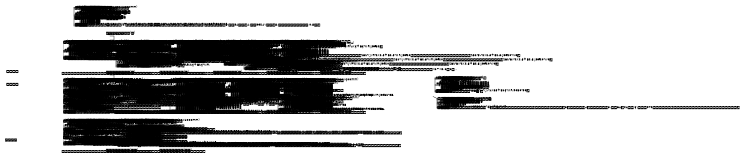room: (89, 77, 96, 81), (89, 122, 96, 126)
wall: (698, 43, 744, 57)
